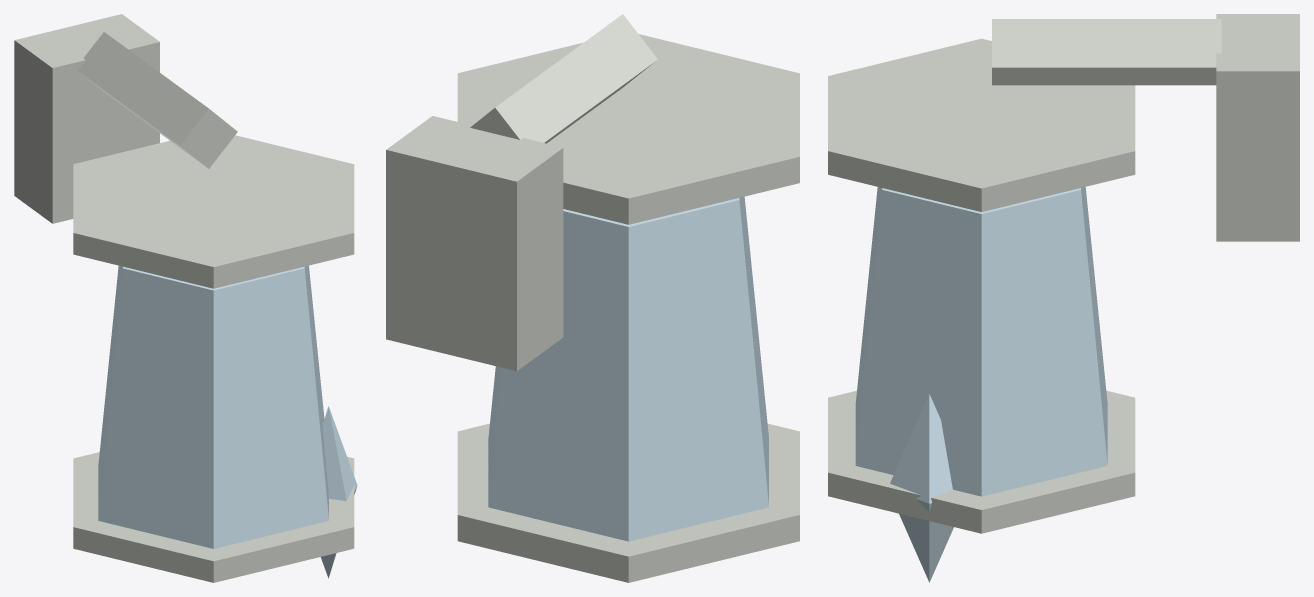
The model's file is Tundra_Fixture.fbx.
3 views of the same model, side by side, from view 1: azimuth 30°, elevation 25°; view 2: azimuth 150°, elevation 25°; view 3: azimuth 270°, elevation 25° (orthographic). The views are drawn at different scales.
Visible parts, largest first — view 1: Tundra_Fixture; view 2: Tundra_Fixture; view 3: Tundra_Fixture.
Part boxes in pixels (left/top/right/bottom): Tundra_Fixture: left=14, top=14, right=357, bottom=582; Tundra_Fixture: left=386, top=14, right=799, bottom=582; Tundra_Fixture: left=828, top=14, right=1299, bottom=582.
Size of the model in its own units: 34 by 54.5 by 45.22.
